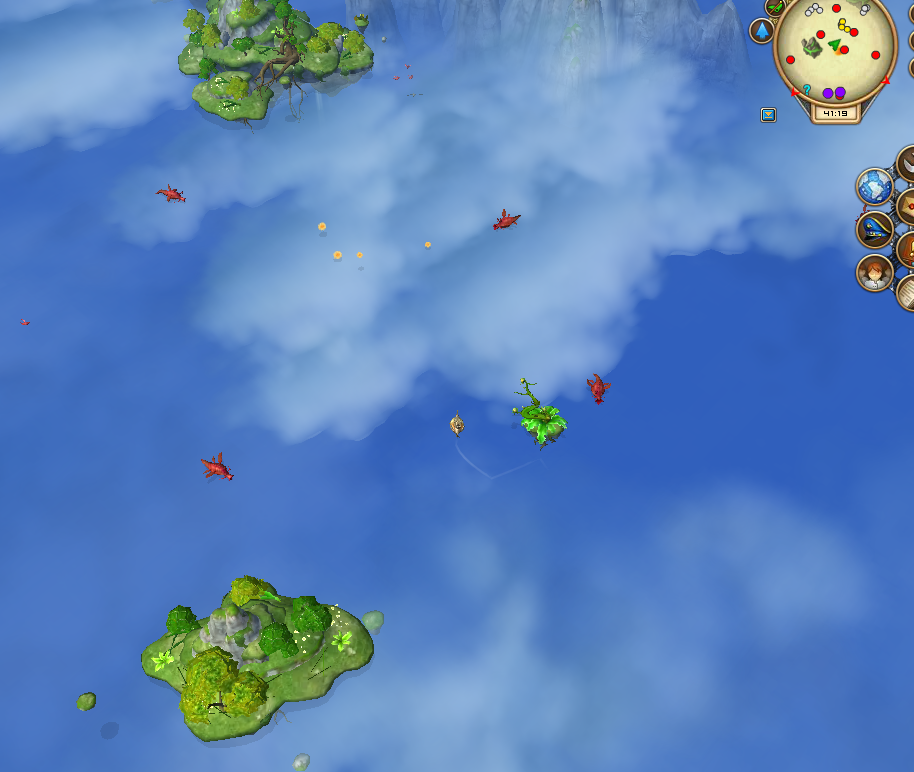dandelion-empty: (507, 373, 572, 446)
fluff: (421, 237, 435, 251), (331, 248, 343, 260), (316, 220, 328, 232), (354, 249, 364, 260)
